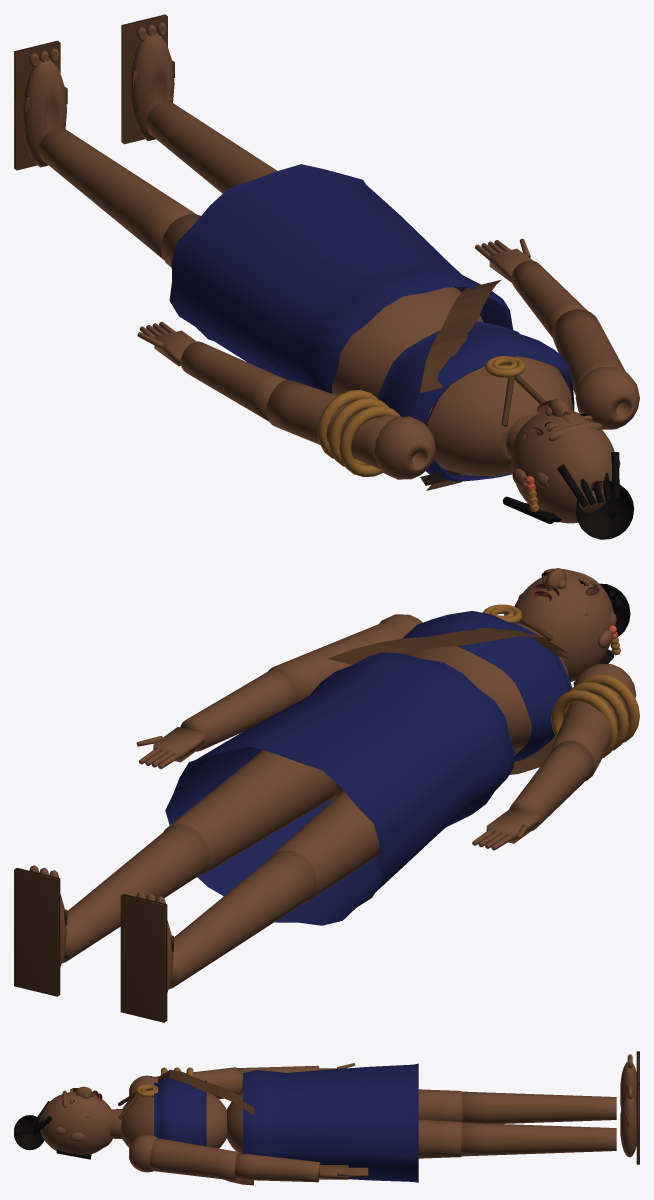
File: ADANNA_AD03_V7.obj
3 renders of one model, top to bottom at view 1: azimuth 30°, elevation 25°; view 2: azimuth 150°, elevation 25°; view 3: azimuth 270°, elevation 25°, orthographic. The views are drawn at different scales.
Parts seen in each view (by area): view 1: skirt_wrap_indigo, shin_foot.L, neck_torso_upper, shin_foot.R, head, wrap_top_indigo, upperarm.L, pelvis_lower, upperarm.R, forearm_hand.L, forearm_hand.R, baldric_L_to_R (+7 smaller); view 2: skirt_wrap_indigo, thigh.R, shin_foot.L, shin_foot.R, wrap_top_indigo, forearm_hand.R, head, sandal.L, sandal.R, thigh.L, forearm_hand.L, neck_torso_upper (+6 smaller); view 3: skirt_wrap_indigo, shin_foot.R, shin_foot.L, head, upperarm.R, wrap_top_indigo, forearm_hand.R, neck_torso_upper, thigh.R, thigh.L, upperarm.L, baldric_L_to_R (+6 smaller).
Part boxes in pixels (x1=…): skirt_wrap_indigo: x1=169, y1=164, x2=513, y2=393; shin_foot.L: x1=22, y1=48, x2=196, y2=259; neck_torso_upper: x1=426, y1=356, x2=573, y2=476; shin_foot.R: x1=130, y1=22, x2=277, y2=193; head: x1=506, y1=405, x2=620, y2=523; wrap_top_indigo: x1=378, y1=321, x2=574, y2=481; upperarm.L: x1=266, y1=379, x2=435, y2=479; pelvis_lower: x1=331, y1=287, x2=483, y2=398; upperarm.R: x1=552, y1=309, x2=639, y2=429; forearm_hand.L: x1=137, y1=321, x2=286, y2=421; forearm_hand.R: x1=475, y1=238, x2=587, y2=337; baldric_L_to_R: x1=420, y1=279, x2=501, y2=490; skirt_wrap_indigo: x1=165, y1=652, x2=514, y2=925; thigh.R: x1=163, y1=750, x2=336, y2=876; shin_foot.L: x1=136, y1=850, x2=316, y2=992; shin_foot.R: x1=29, y1=824, x2=209, y2=966; wrap_top_indigo: x1=402, y1=611, x2=572, y2=761; forearm_hand.R: x1=136, y1=668, x2=296, y2=769; head: x1=514, y1=571, x2=616, y2=681; sandal.L: x1=120, y1=894, x2=173, y2=1022; sandal.R: x1=14, y1=868, x2=67, y2=996; thigh.L: x1=270, y1=790, x2=379, y2=902; forearm_hand.L: x1=472, y1=740, x2=594, y2=850; neck_torso_upper: x1=404, y1=623, x2=568, y2=750; skirt_wrap_indigo: x1=243, y1=1063, x2=418, y2=1182; shin_foot.R: x1=461, y1=1085, x2=636, y2=1157; shin_foot.L: x1=461, y1=1054, x2=636, y2=1123; head: x1=39, y1=1091, x2=122, y2=1156; upperarm.R: x1=129, y1=1134, x2=240, y2=1180; wrap_top_indigo: x1=154, y1=1077, x2=206, y2=1146; forearm_hand.R: x1=235, y1=1153, x2=368, y2=1182; neck_torso_upper: x1=121, y1=1090, x2=226, y2=1148; thigh.R: x1=418, y1=1119, x2=461, y2=1158; thigh.L: x1=418, y1=1089, x2=462, y2=1122; upperarm.L: x1=129, y1=1067, x2=241, y2=1099; baldric_L_to_R: x1=158, y1=1069, x2=253, y2=1185.
Bounding box in the file's own units: 0.7784 × 0.3318 × 1.84.
